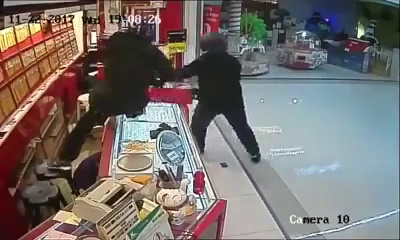helmet: (196, 31, 229, 53)
